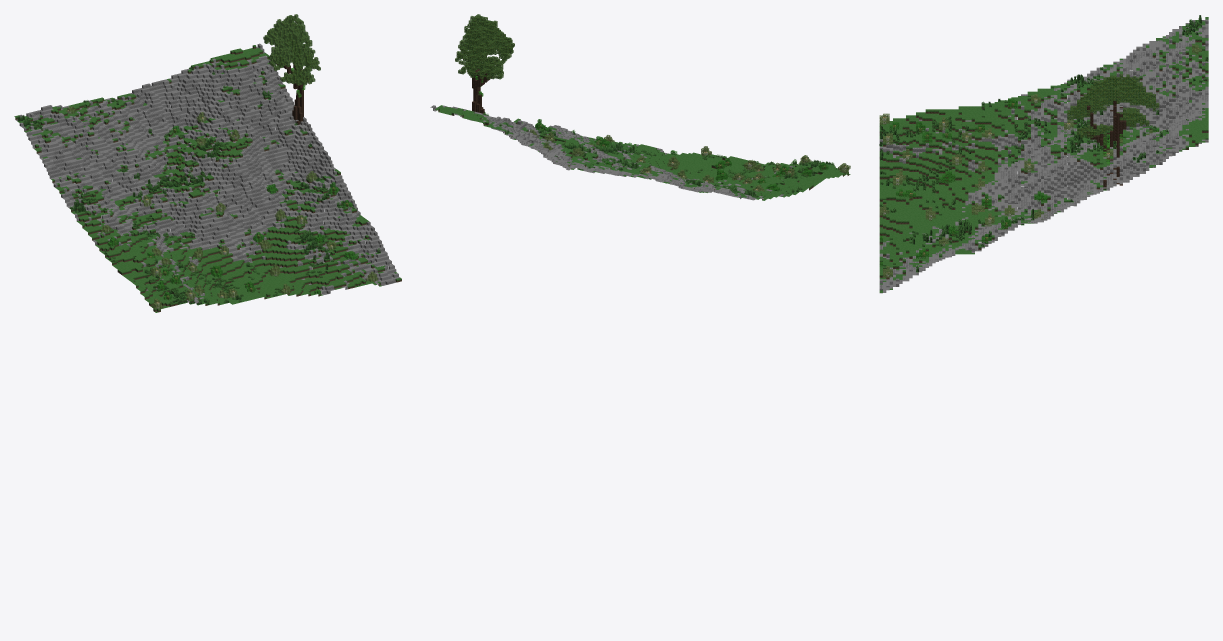
The model's file is chunk-3500--3000-lvl-1-transformed.glb.
3 views of the same model, side by side, from view 1: azimuth 30°, elevation 25°; view 2: azimuth 150°, elevation 25°; view 3: azimuth 270°, elevation 25° (orthographic). The views are drawn at different scales.
Parts seen in each view (by area): view 1: Grass_Block, Stone, Cobblestone, Jungle_Leaves, Birch_Leaves, Grass, Double_Tallgrass, Oak_Leaves; view 2: Grass_Block, Jungle_Leaves, Stone, Cobblestone, Birch_Leaves, Oak_Leaves, Grass, Double_Tallgrass; view 3: Grass_Block, Cobblestone, Stone, Jungle_Leaves, Birch_Leaves, Grass, Oak_Leaves, Double_Tallgrass, Dark_Oak_Wood, Fern.
Boxes of the visible parts, x1,y1,x2,y2 form: Grass_Block: [14, 45, 401, 312]; Stone: [19, 44, 399, 304]; Cobblestone: [16, 43, 396, 302]; Jungle_Leaves: [263, 14, 320, 85]; Birch_Leaves: [65, 106, 378, 309]; Grass: [27, 66, 355, 303]; Double_Tallgrass: [20, 86, 380, 304]; Oak_Leaves: [107, 125, 359, 300]; Grass_Block: [435, 105, 850, 200]; Jungle_Leaves: [455, 14, 514, 79]; Stone: [432, 105, 783, 200]; Cobblestone: [430, 105, 794, 199]; Birch_Leaves: [529, 129, 850, 191]; Oak_Leaves: [535, 119, 828, 191]; Grass: [498, 123, 833, 197]; Double_Tallgrass: [483, 112, 821, 197]; Grass_Block: [879, 17, 1208, 292]; Cobblestone: [879, 19, 1208, 293]; Stone: [879, 20, 1208, 292]; Jungle_Leaves: [1067, 74, 1159, 137]; Birch_Leaves: [879, 44, 1201, 277]; Grass: [879, 23, 1208, 246]; Oak_Leaves: [879, 98, 1159, 266]; Double_Tallgrass: [880, 16, 1201, 271]; Dark_Oak_Wood: [1084, 97, 1132, 188]; Fern: [879, 25, 1208, 241].
Size of the model in its own units: 100 by 185 by 100.
Materials: 31 (31 with a texture image).
